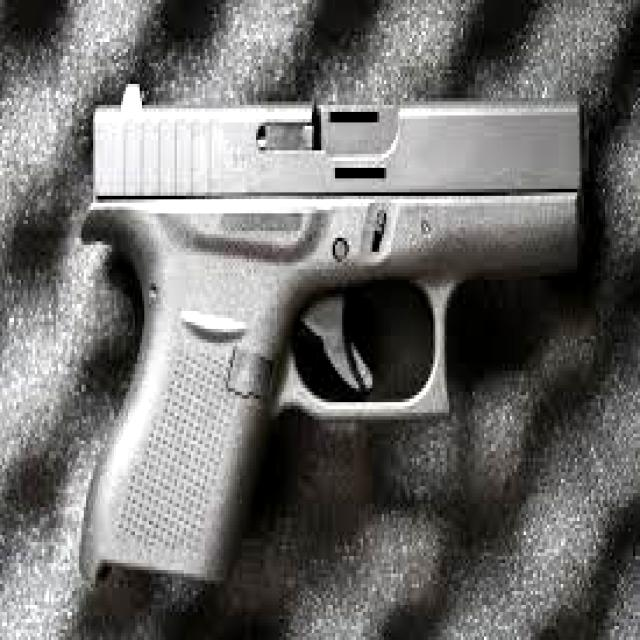semi automatic: (74, 62, 616, 610)
